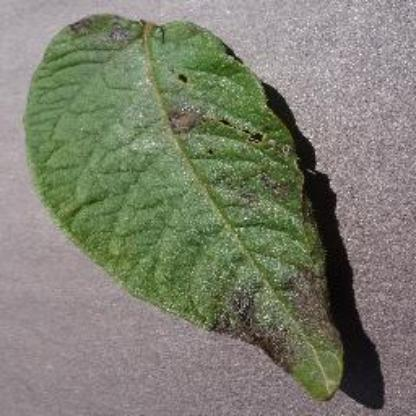Late-Blight: (15, 10, 376, 408)
